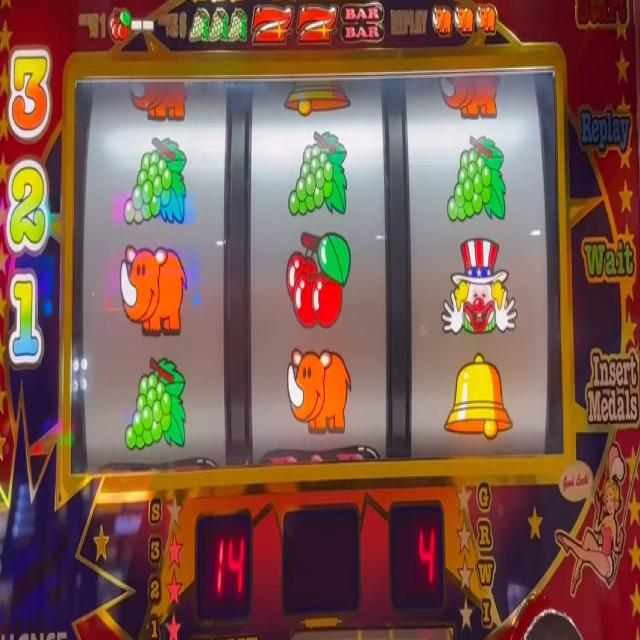bar: (340, 0, 385, 49)
bell: (444, 355, 514, 443), (282, 74, 352, 120)
cherry: (106, 5, 132, 44)
clown: (440, 234, 517, 344)
display: (72, 62, 563, 474)
elephant: (284, 228, 352, 331), (118, 242, 187, 337), (285, 342, 353, 437), (437, 70, 505, 122), (127, 77, 194, 124), (475, 0, 499, 37), (454, 0, 474, 40), (432, 3, 452, 40)
grape: (443, 124, 508, 234), (126, 347, 186, 453), (124, 134, 185, 237), (289, 126, 348, 223), (228, 2, 248, 46), (190, 4, 209, 48), (209, 3, 227, 48)
z: (251, 6, 293, 49), (298, 4, 337, 46)
